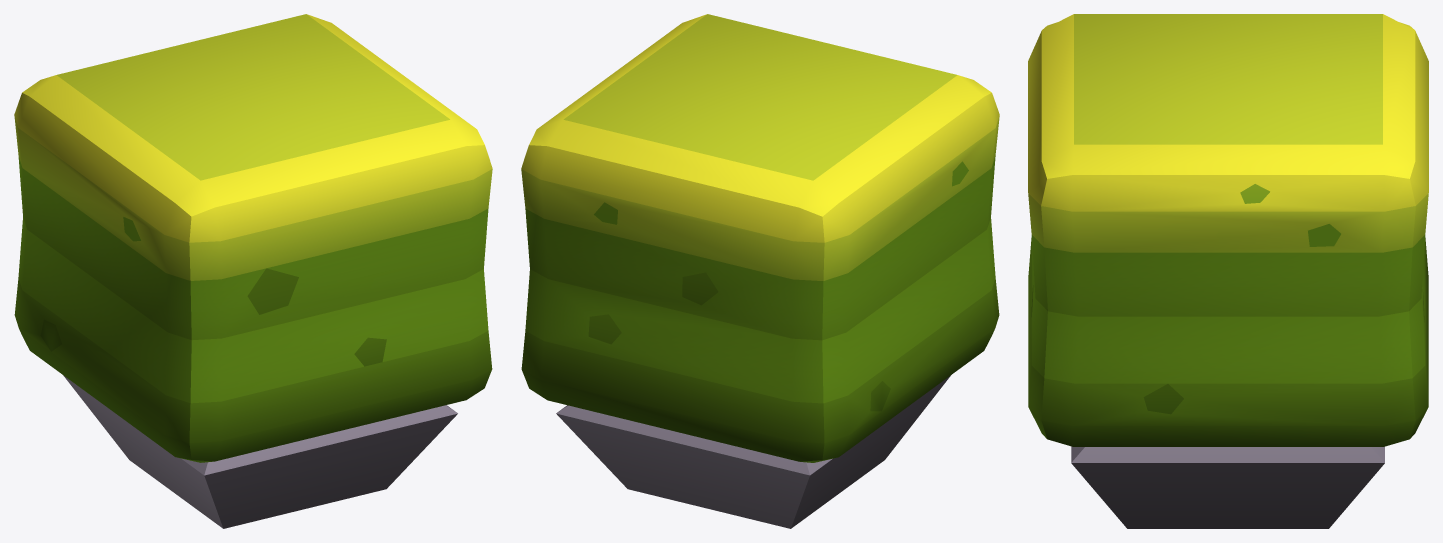
Rendered from garden_bush_1.glb.
The picture shows the model from 3 angles, left to right: view 1: azimuth 30°, elevation 25°; view 2: azimuth 150°, elevation 25°; view 3: azimuth 270°, elevation 25°; orthographic projection. The views are drawn at different scales.
Parts seen in each view (by area): view 1: garden_bush_1; view 2: garden_bush_1; view 3: garden_bush_1.
Boxes of the visible parts, x1,y1,x2,y2 form: garden_bush_1: [14, 14, 492, 528]; garden_bush_1: [521, 14, 999, 528]; garden_bush_1: [1028, 14, 1428, 528].
Size of the model in its own units: 0.7892 by 0.8799 by 0.7892.
Materials: 1 (1 with a texture image).
